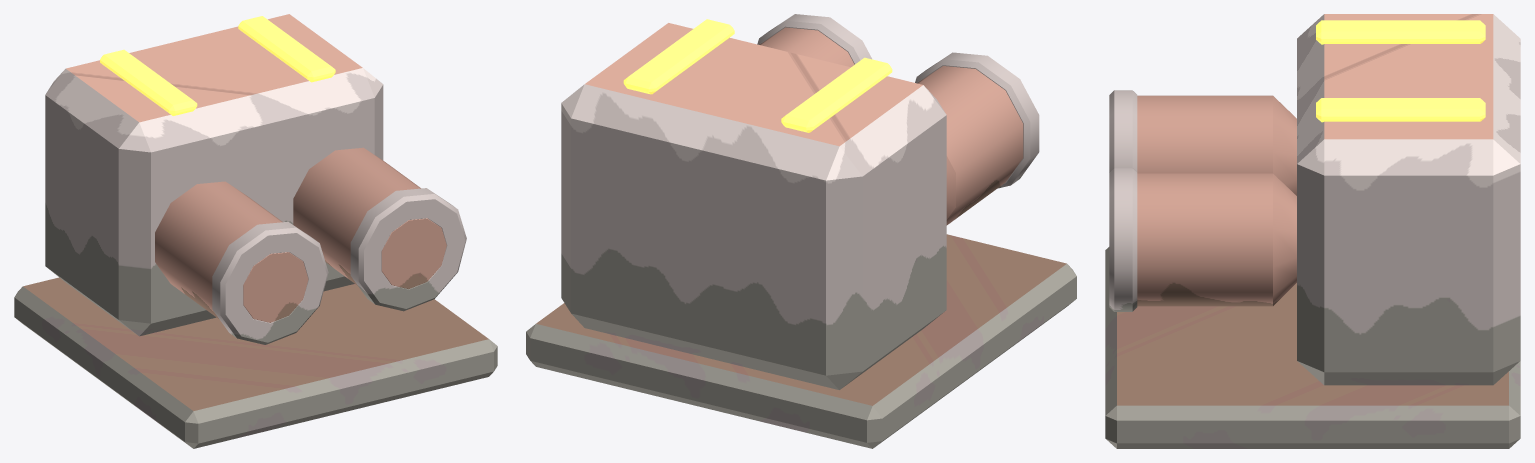
The model's file is R4X_DoubleShotPassive_LOD1.glb.
3 renders of one model, left to right at view 1: azimuth 30°, elevation 25°; view 2: azimuth 150°, elevation 25°; view 3: azimuth 270°, elevation 25°, orthographic. The views are drawn at different scales.
Visible parts, largest first — view 1: R4X_DoubleShotPassive_LOD1; view 2: R4X_DoubleShotPassive_LOD1; view 3: R4X_DoubleShotPassive_LOD1.
Part boxes in pixels (left/top/right/bottom): R4X_DoubleShotPassive_LOD1: left=14, top=14, right=497, bottom=448; R4X_DoubleShotPassive_LOD1: left=526, top=14, right=1076, bottom=448; R4X_DoubleShotPassive_LOD1: left=1105, top=14, right=1520, bottom=448.
Bounding box in the file's own units: 0.52 × 0.4163 × 0.52.
4 materials, 3 textured.
